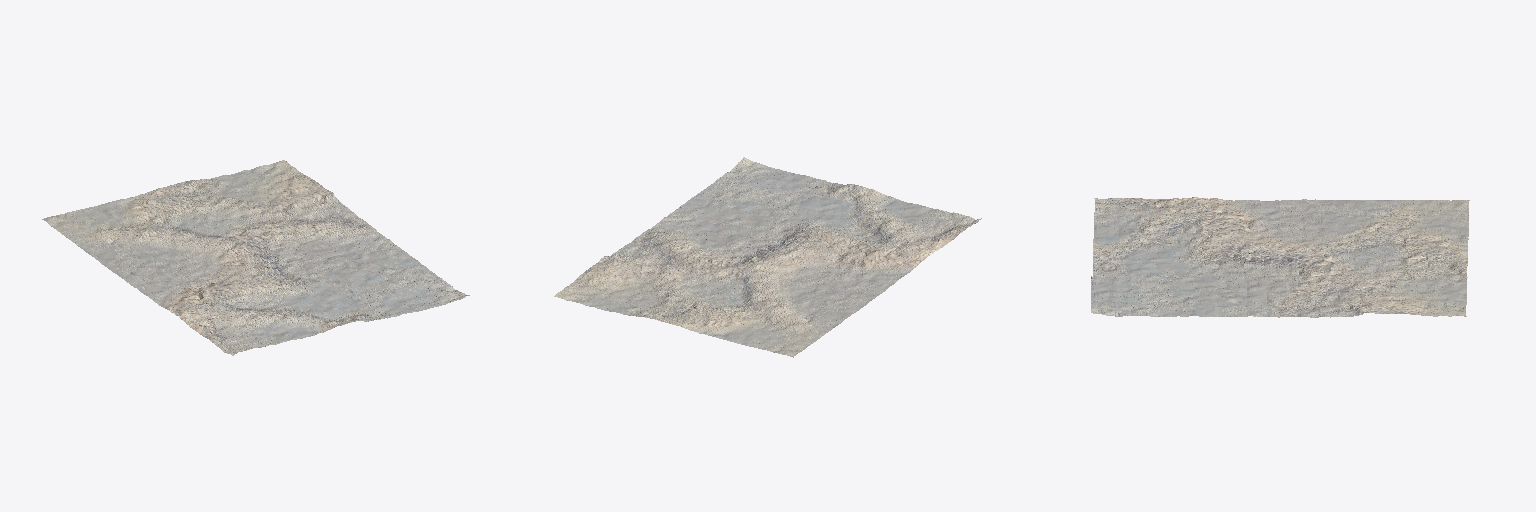
The picture shows the model from 3 angles: view 1: azimuth 30°, elevation 25°; view 2: azimuth 150°, elevation 25°; view 3: azimuth 270°, elevation 25°; orthographic projection.
Visible parts, largest first — view 1: ID68, ID42, ID55, ID3, ID16, ID29; view 2: ID42, ID68, ID55, ID3, ID16, ID29; view 3: ID29, ID42, ID3, ID68, ID16, ID55.
Part boxes in pixels (x1,y1,x2,y2): ID68: (202,160,376,249); ID42: (137,267,308,355); ID55: (42,199,215,287); ID3: (124,179,293,268); ID16: (298,230,469,318); ID29: (216,248,390,336); ID42: (807,201,981,287); ID68: (554,229,729,315); ID55: (713,268,887,357); ID3: (635,250,809,336); ID16: (649,157,825,247); ID29: (725,180,900,267); ID29: (1093,235,1280,279); ID42: (1094,197,1282,239); ID3: (1279,237,1467,278); ID68: (1278,275,1466,317); ID16: (1091,276,1278,316); ID55: (1280,199,1469,240).
Size of the model in its own units: 110484 by 4201 by 149227.
6 materials, 6 textured.